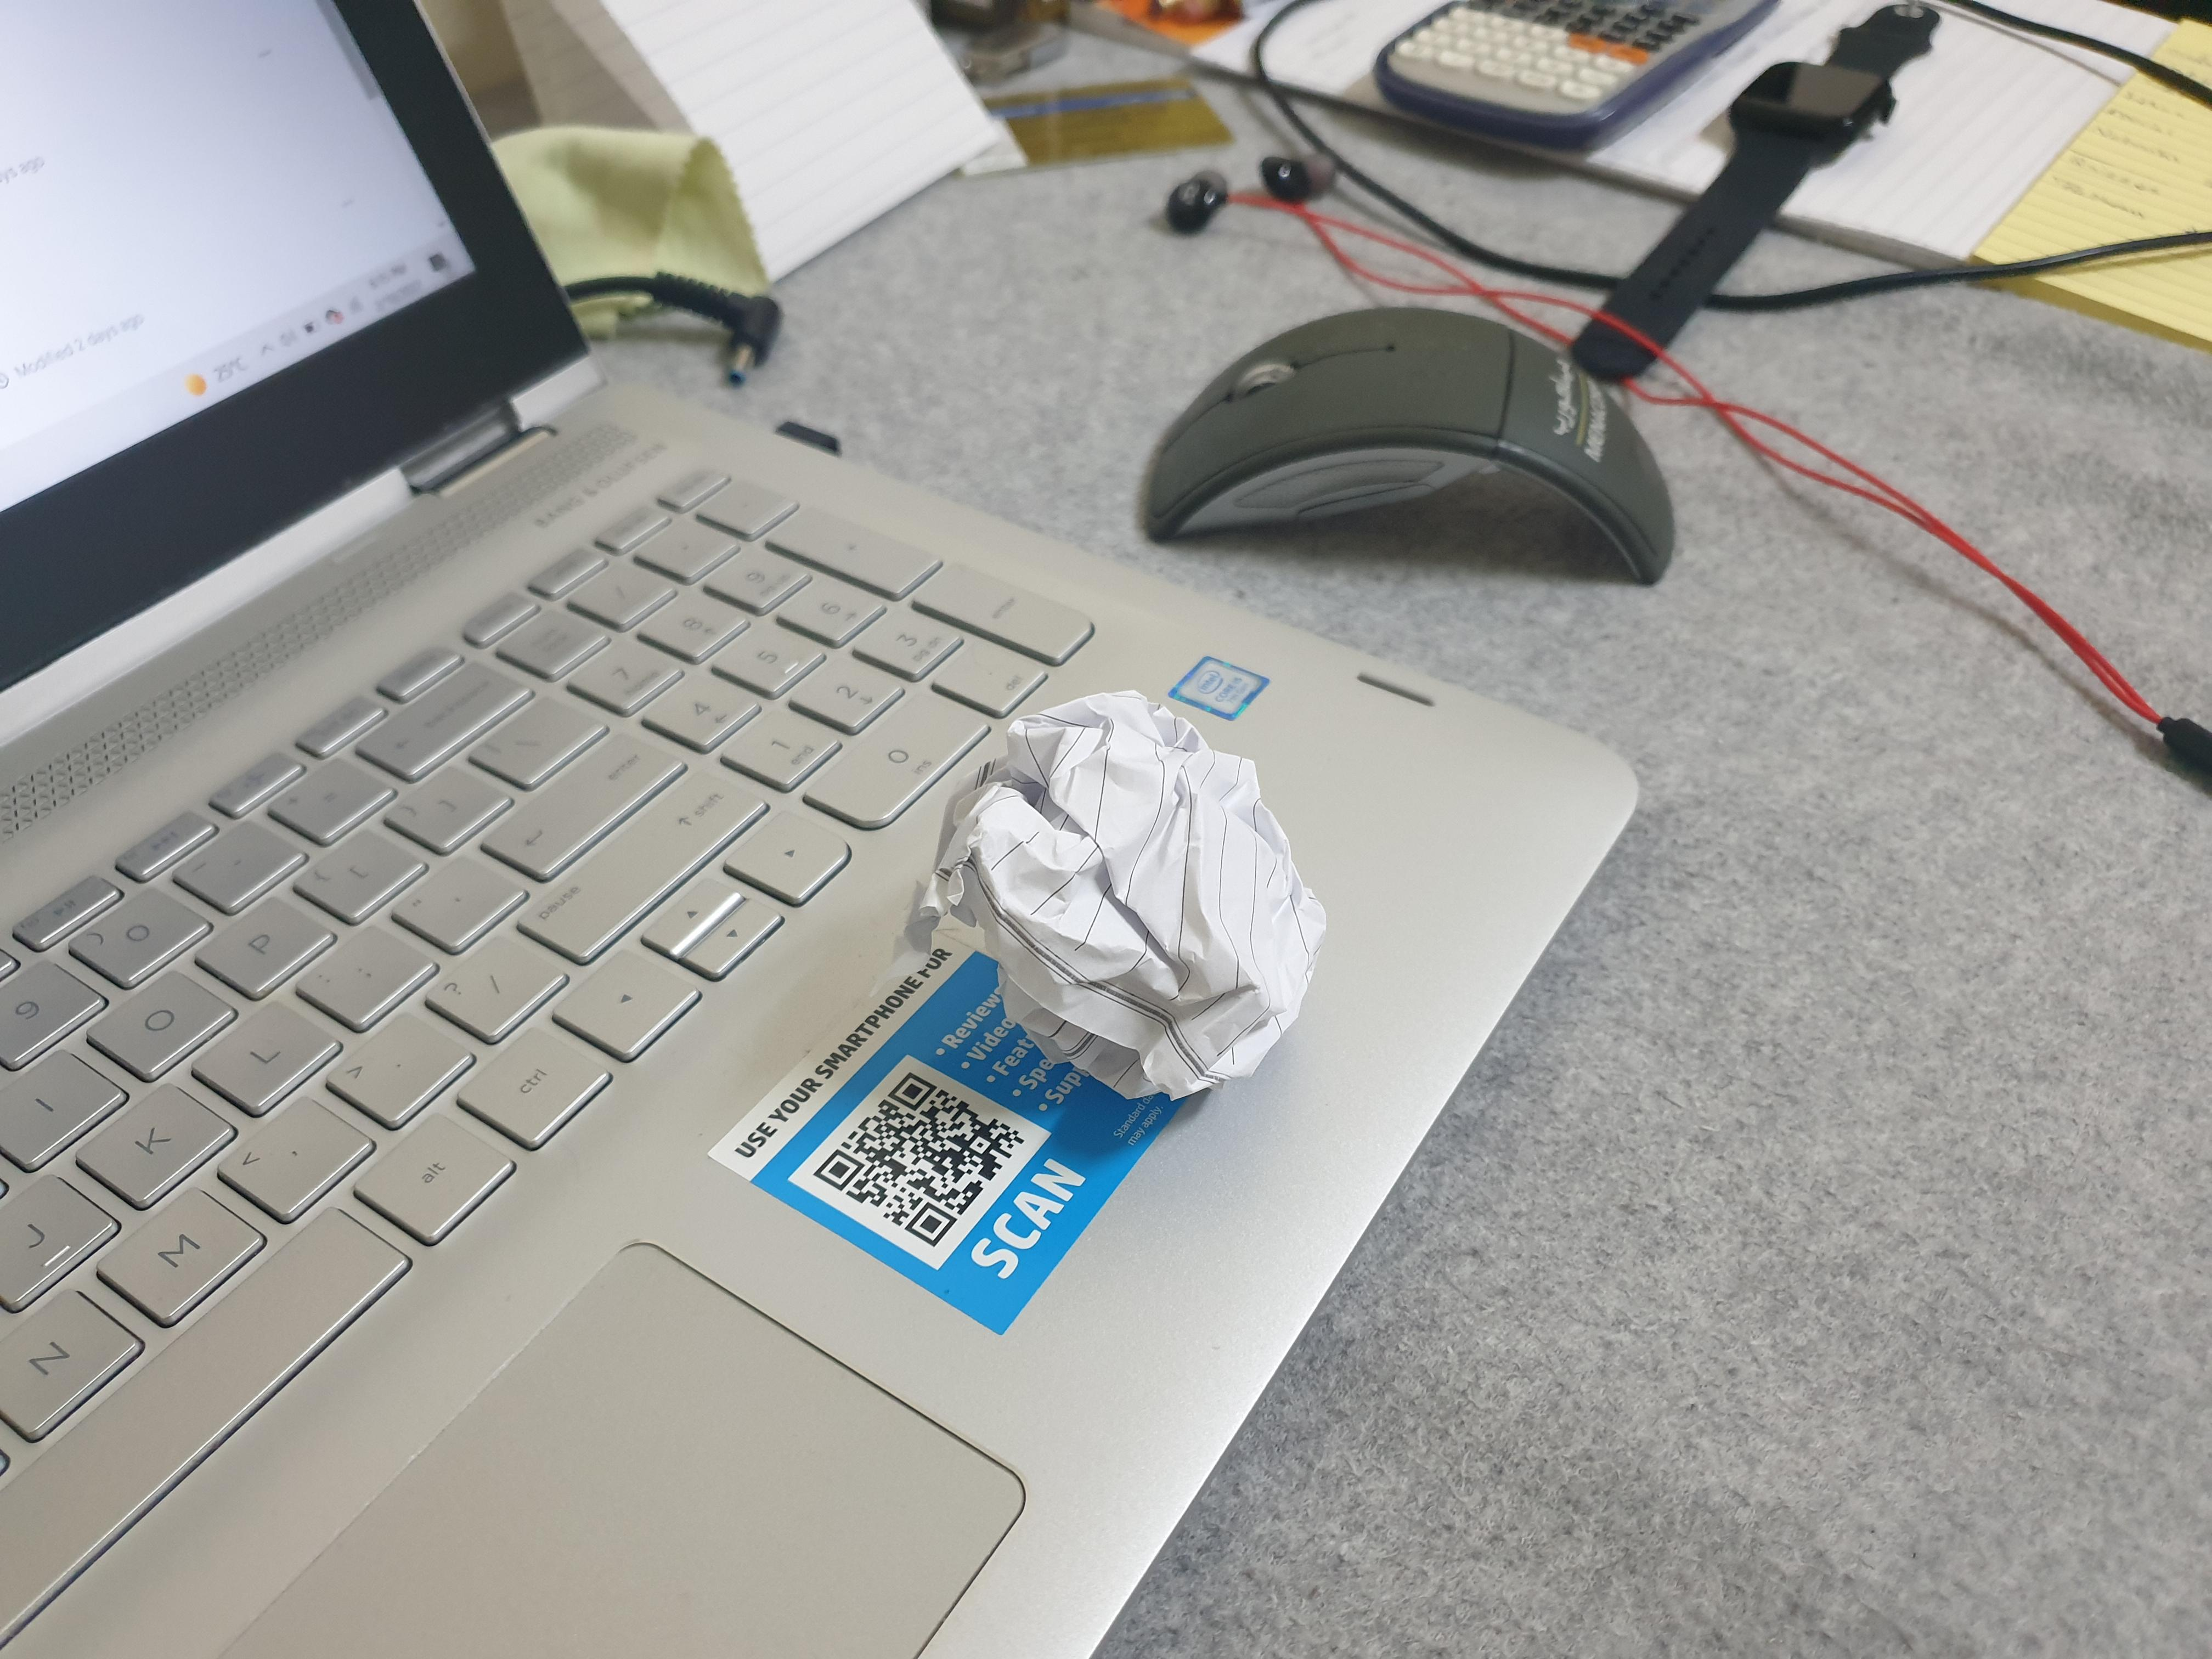Paper: (885, 659, 1345, 1171)
